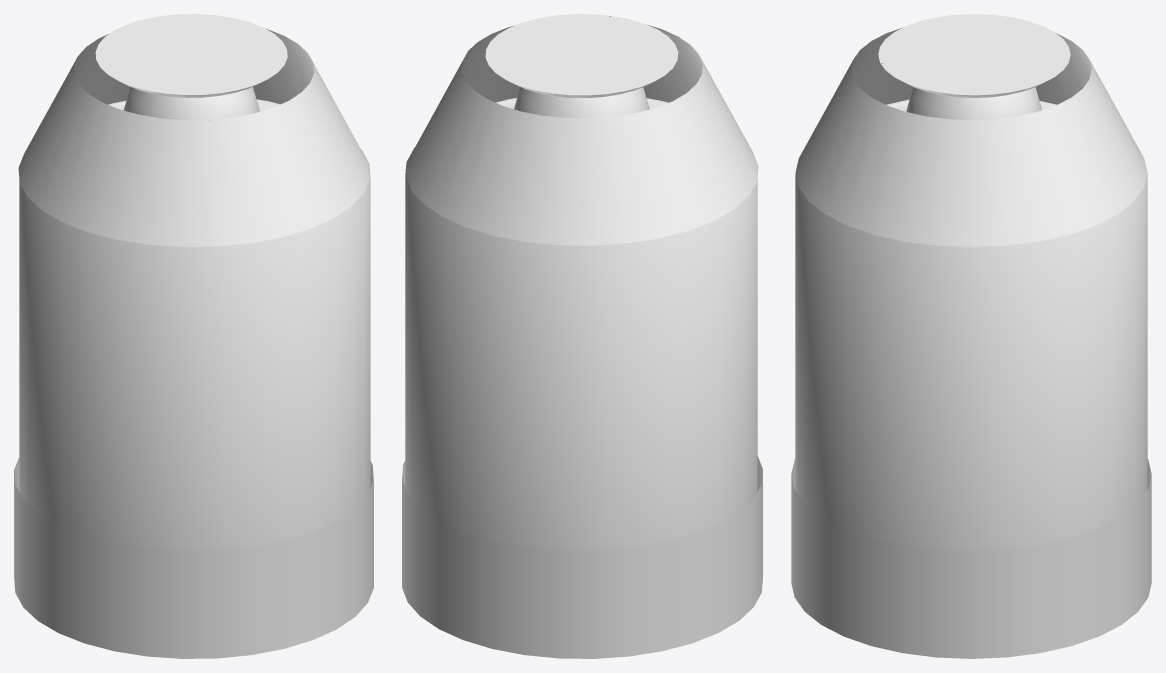
File: Mid.fbx
3 views of the same model, side by side, from view 1: azimuth 30°, elevation 25°; view 2: azimuth 150°, elevation 25°; view 3: azimuth 270°, elevation 25° (orthographic).
Parts seen in each view (by area): view 1: Cylinder.009; view 2: Cylinder.009; view 3: Cylinder.009.
Boxes of the visible parts, <box> form: Cylinder.009: <box>14,14,373,658</box>; Cylinder.009: <box>402,14,762,658</box>; Cylinder.009: <box>791,14,1151,658</box>.
Size of the model in its own units: 37.11 by 59.92 by 37.11.
1 material, 1 textured.
